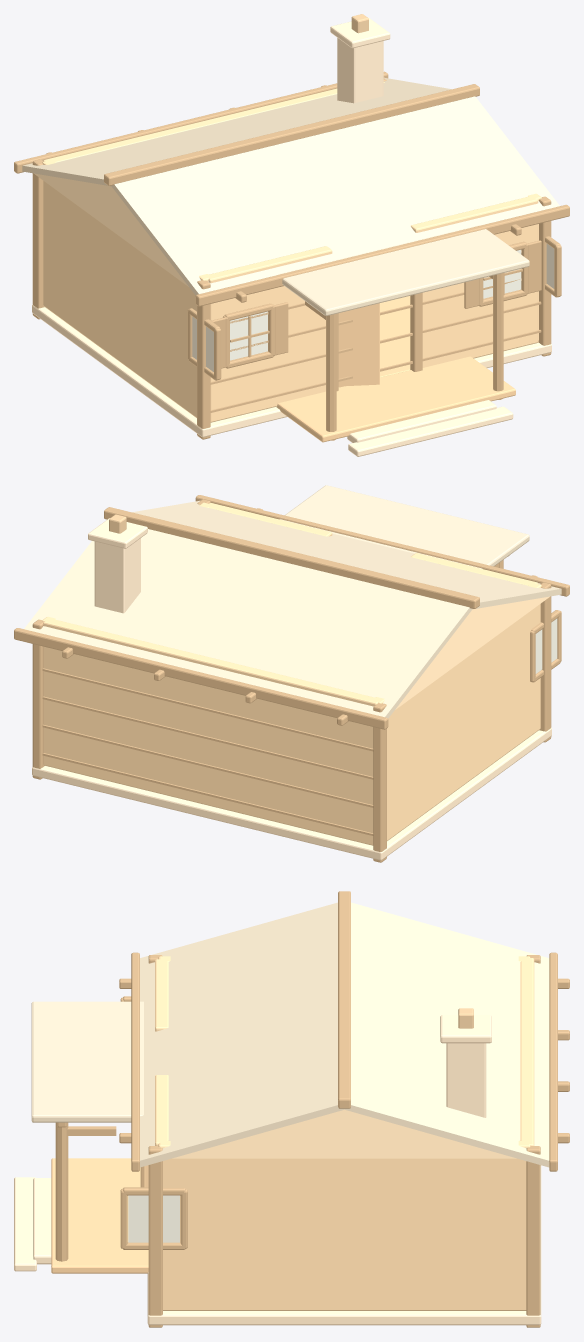
File: rv_roadhouse.gltf
3 views of the same model, one above another, from view 1: azimuth 30°, elevation 25°; view 2: azimuth 150°, elevation 25°; view 3: azimuth 270°, elevation 25° (orthographic). The views are drawn at different scales.
Parts seen in each view (by area): view 1: RV_Roadhouse; view 2: RV_Roadhouse; view 3: RV_Roadhouse.
Part boxes in pixels (x1,y1,x2,y2): RV_Roadhouse: [14, 14, 569, 456]; RV_Roadhouse: [14, 485, 569, 862]; RV_Roadhouse: [14, 891, 569, 1327].
Size of the model in its own units: 6.9 by 4.43 by 7.77.
